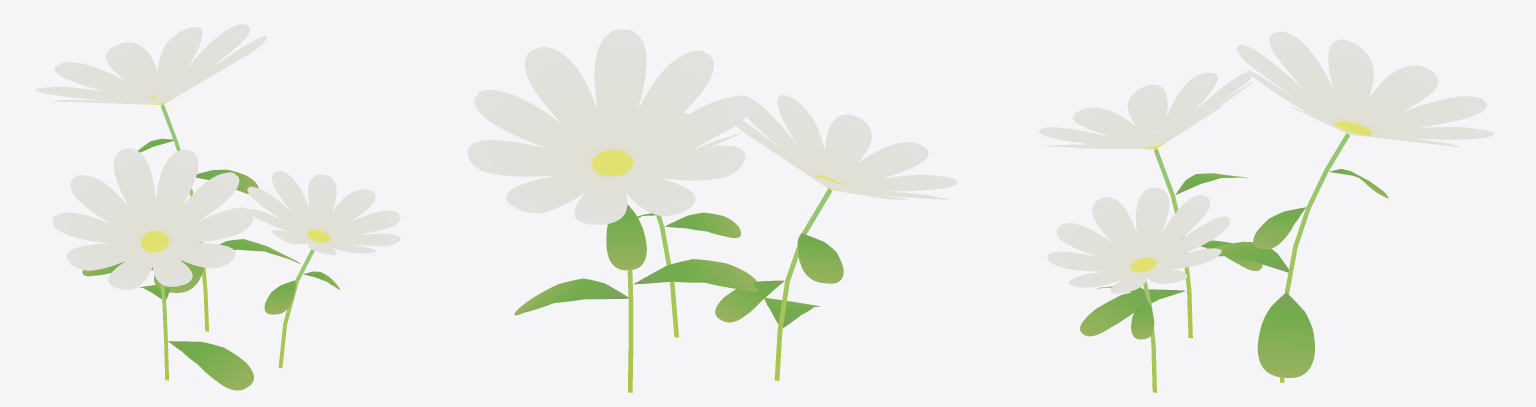
The model's file is SM_Env_Flower_E1_1.fbx.
3 views of the same model, side by side, from view 1: azimuth 30°, elevation 25°; view 2: azimuth 150°, elevation 25°; view 3: azimuth 270°, elevation 25° (orthographic). The views are drawn at different scales.
Visible parts, largest first — view 1: Env_Flower_E1_1; view 2: Env_Flower_E1_1; view 3: Env_Flower_E1_1.
Boxes of the visible parts, left/top/right/bottom form: Env_Flower_E1_1: left=36, top=24, right=400, bottom=390; Env_Flower_E1_1: left=467, top=29, right=957, bottom=392; Env_Flower_E1_1: left=1038, top=31, right=1494, bottom=392.
Size of the model in its own units: 3 by 2.38 by 3.33.
